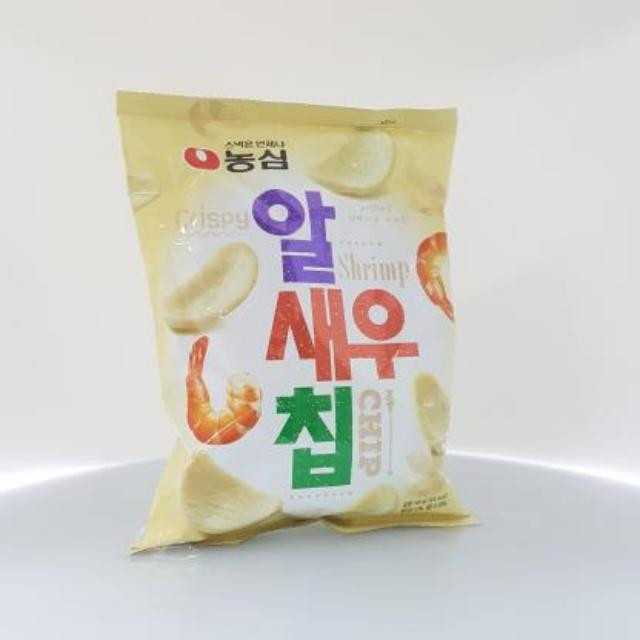snack_bag: (104, 75, 486, 575)
